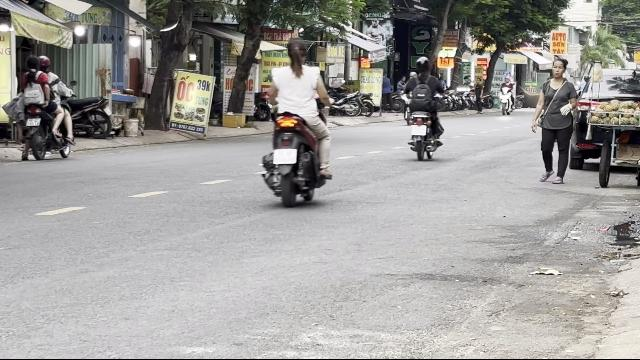helmet: (414, 56, 430, 74), (37, 55, 51, 71)
licenseplate: (274, 150, 296, 164), (410, 125, 426, 135), (26, 118, 40, 126)
motorcyclist: (260, 38, 336, 206), (10, 54, 74, 162), (402, 55, 446, 159)
nohelmet: (285, 38, 309, 66), (25, 56, 39, 72)
